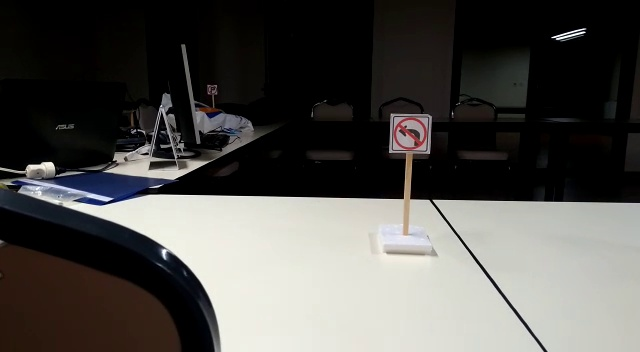sola_donulmez: (391, 115, 433, 150)
